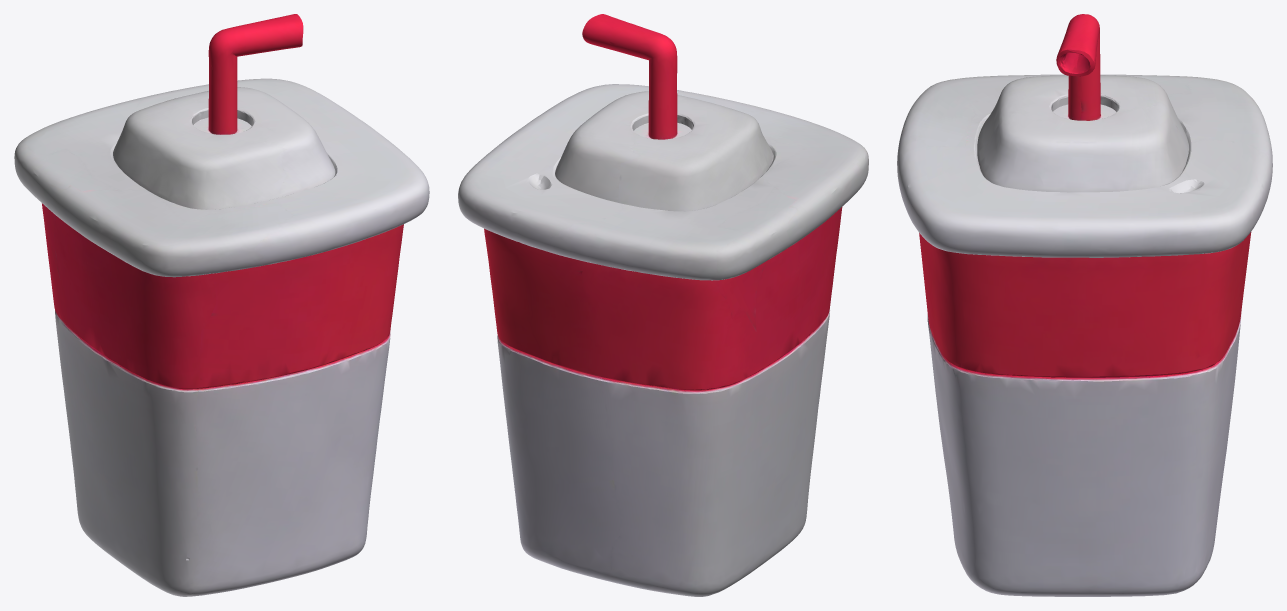
Rendered from soda.glb.
3 renders of one model, left to right at view 1: azimuth 30°, elevation 25°; view 2: azimuth 150°, elevation 25°; view 3: azimuth 270°, elevation 25°, orthographic. The views are drawn at different scales.
Visible parts, largest first — view 1: model; view 2: model; view 3: model.
Boxes of the visible parts, x1=… form: model: x1=14, y1=14, x2=429, y2=596; model: x1=458, y1=14, x2=868, y2=596; model: x1=897, y1=14, x2=1272, y2=596.
Size of the model in its own units: 0.6296 by 1 by 0.6366.
1 material, 1 textured.
